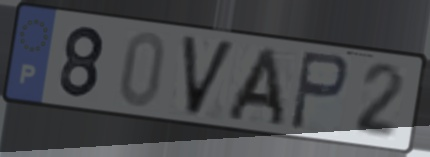0: (116, 29, 171, 112)
2: (351, 60, 407, 144)
8: (57, 24, 106, 101)
A: (222, 44, 288, 130)
P: (287, 48, 351, 134)
V: (179, 32, 240, 120)
